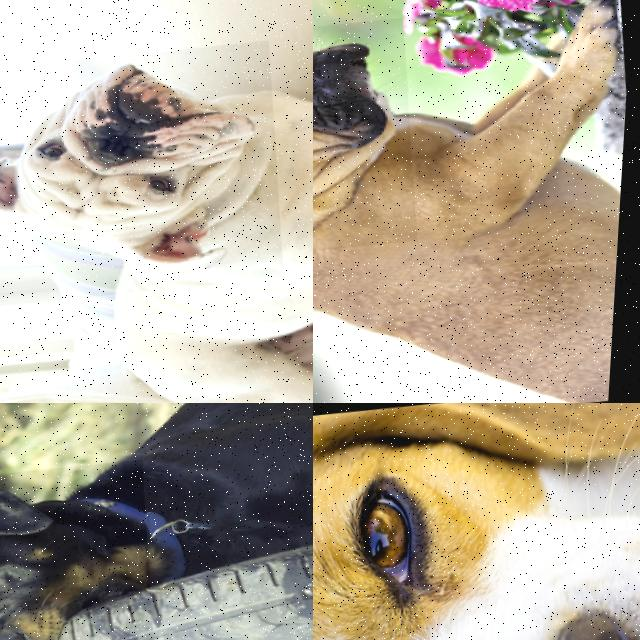beagle: (313, 403, 640, 640)
bulldog: (0, 31, 298, 314), (313, 7, 432, 287)
rottweiler: (0, 452, 170, 640)
